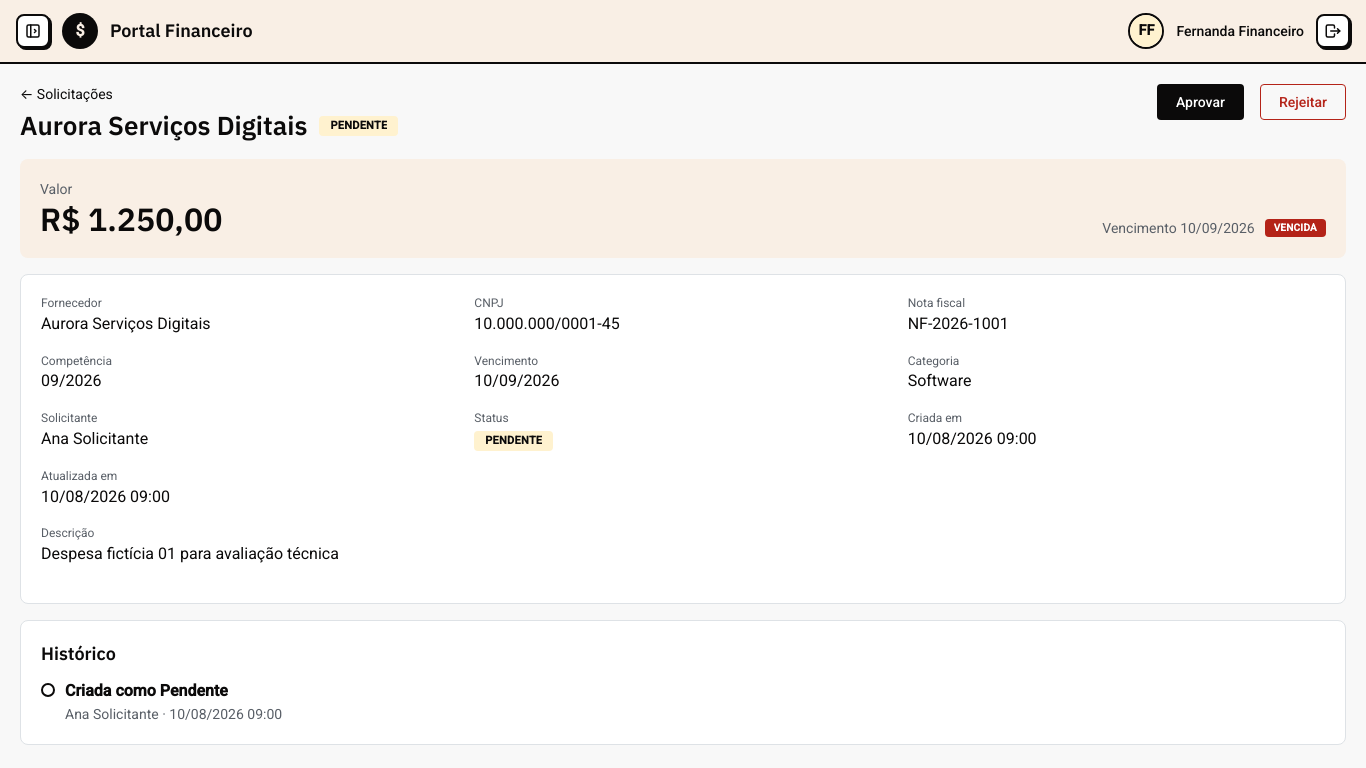
it: RequestDetailPage › a failing detail refetch neither unmounts the open modal nor loses the text
Step 1. Click the button "Rejeitar" → (1303, 102), box x1=1260 y1=84 x2=1346 y2=120
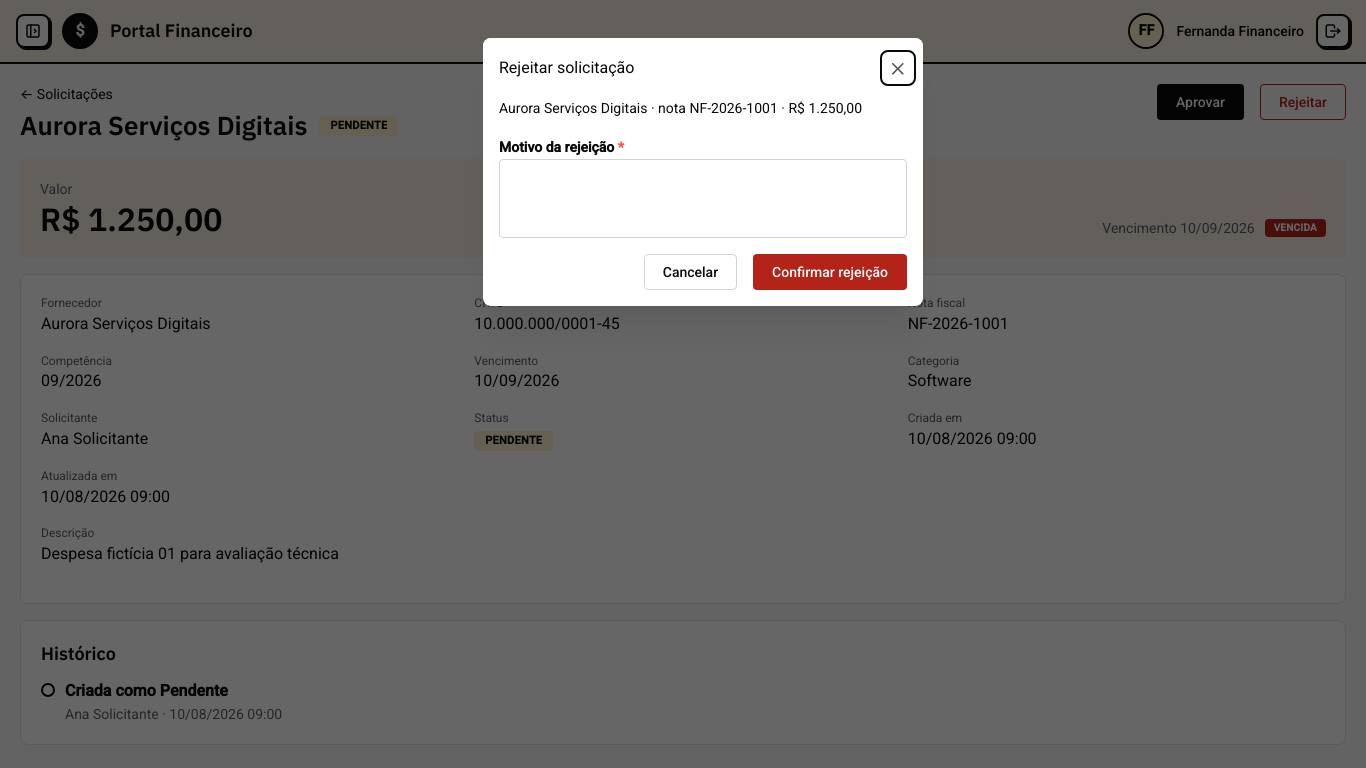
Step 2. Type "Motivo em edição" into the text box labelled "Motivo da rejeição *" → (703, 199), box x1=499 y1=160 x2=907 y2=238
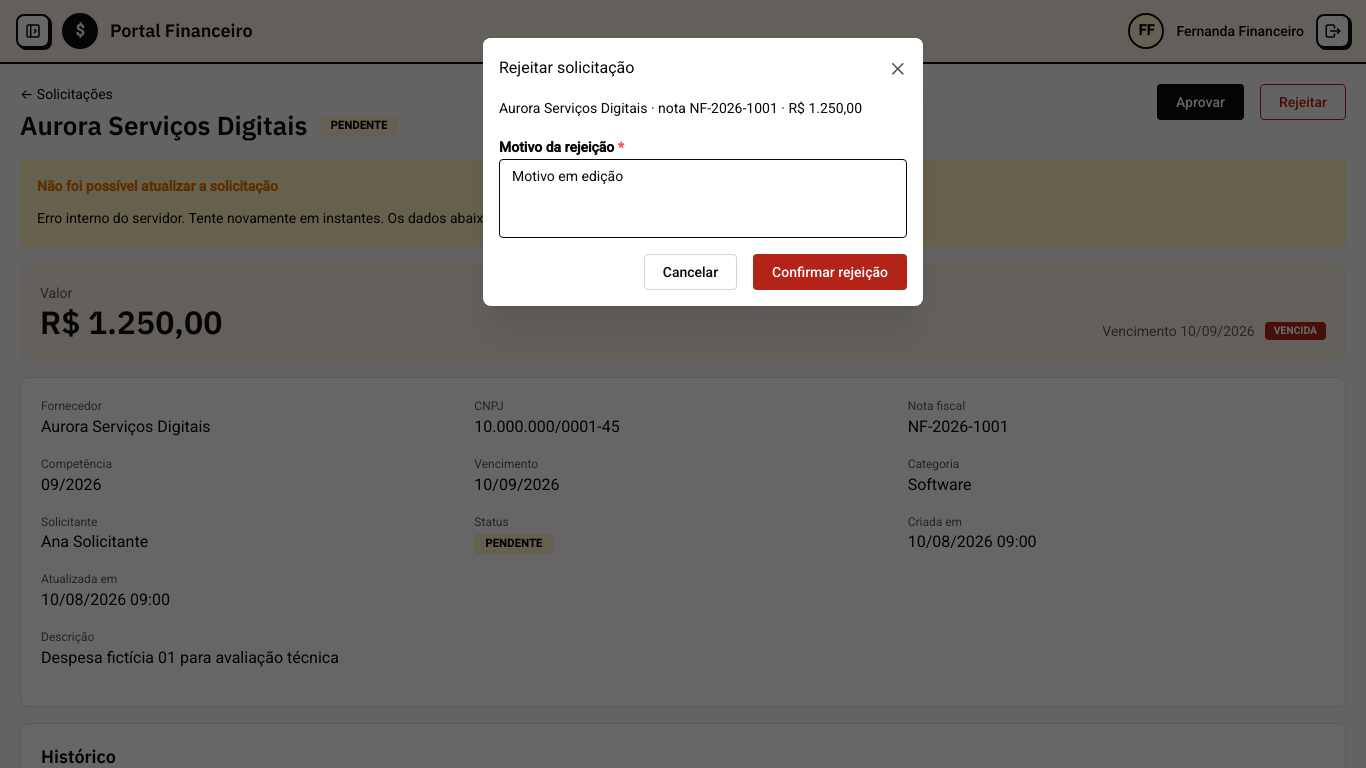
Check: the dialog "Rejeitar solicitação" is shown, box x1=483 y1=38 x2=923 y2=306
Check: the text "Não foi possível atualizar a solicitação" is shown, box x1=37 y1=176 x2=278 y2=198
